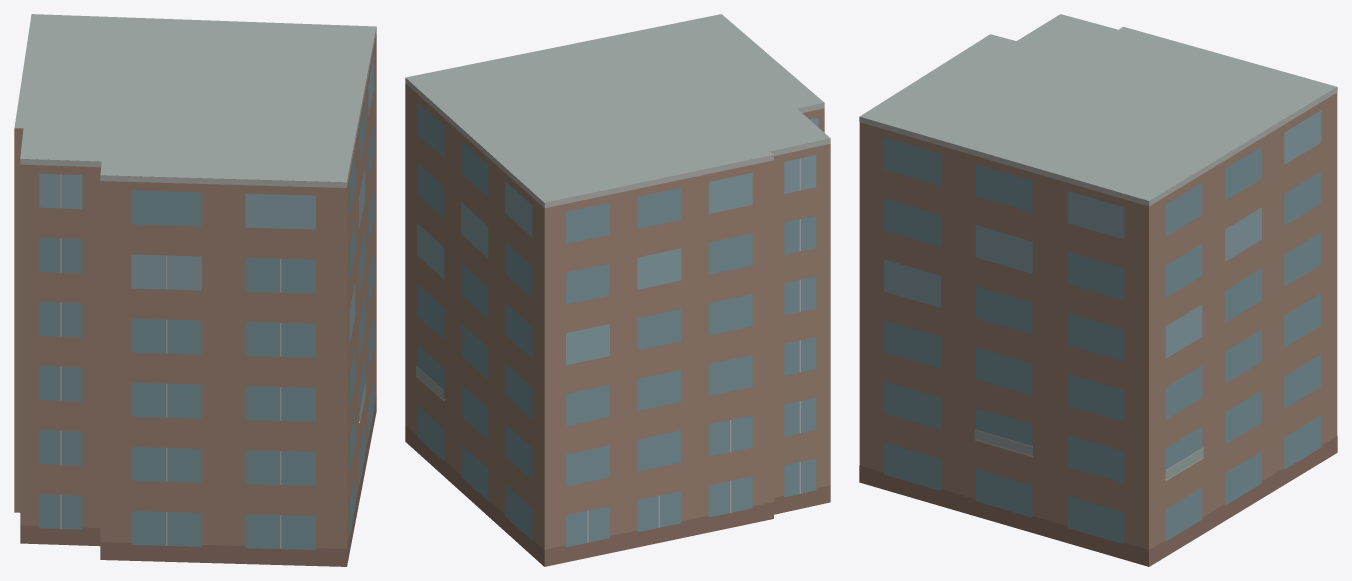
The model's file is survey-upis-32679834.glb.
The picture shows the model from 3 angles, left to right: view 1: azimuth 30°, elevation 25°; view 2: azimuth 150°, elevation 25°; view 3: azimuth 270°, elevation 25°; orthographic projection. The views are drawn at different scales.
Parts seen in each view (by area): view 1: survey-upis-32679834.tmp; view 2: survey-upis-32679834.tmp; view 3: survey-upis-32679834.tmp.
Part boxes in pixels (x1,y1,x2,y2): survey-upis-32679834.tmp: (14, 14, 376, 566); survey-upis-32679834.tmp: (405, 14, 830, 566); survey-upis-32679834.tmp: (859, 14, 1337, 566).
Bounding box in the file's own units: 17.77 × 16.2 × 19.19.
